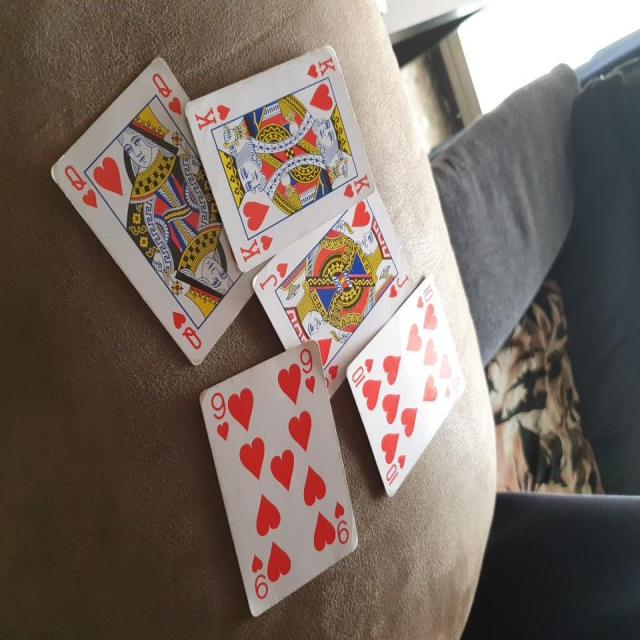10 Hearts: (339, 260, 466, 504)
9 Hearts: (194, 329, 363, 614)
J Hearts: (242, 176, 415, 393)
K Hearts: (185, 40, 378, 271)
Q Hearts: (44, 44, 255, 378)
